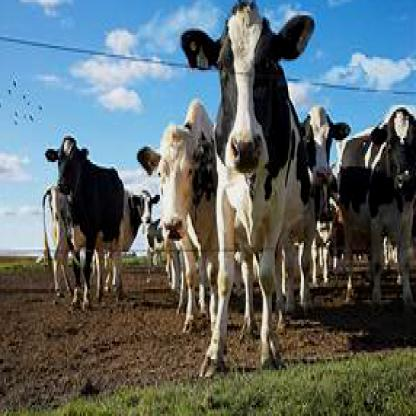cow: (178, 0, 318, 388), (136, 96, 216, 328), (336, 109, 415, 305), (42, 136, 124, 313), (292, 107, 352, 193), (130, 184, 160, 230)
